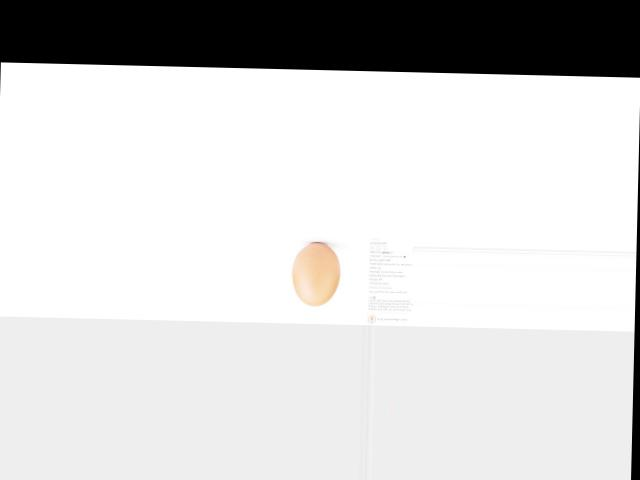egg: (291, 242, 341, 306)
